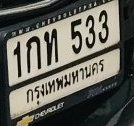num1: (12, 40, 24, 80)
txt01: (24, 35, 42, 75)
txt18: (42, 27, 60, 68)
